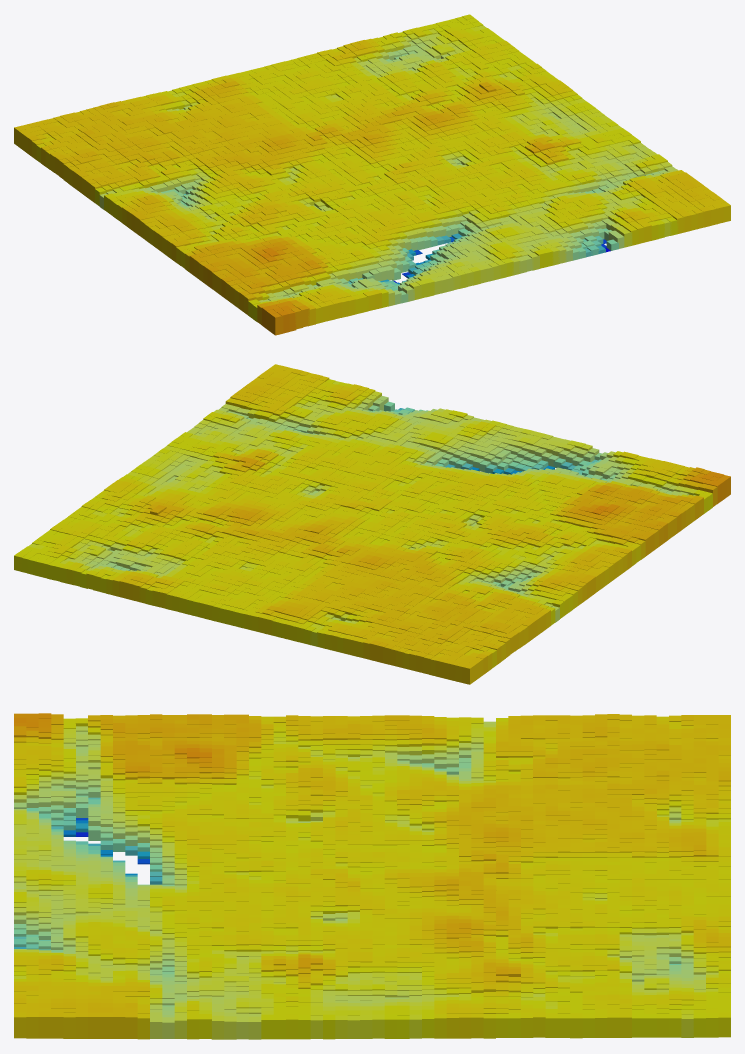
The model's file is population.glb.
3 renders of one model, top to bottom at view 1: azimuth 30°, elevation 25°; view 2: azimuth 150°, elevation 25°; view 3: azimuth 270°, elevation 25°, orthographic. The views are drawn at different scales.
Visible parts, largest first — view 1: population; view 2: population; view 3: population.
Part boxes in pixels (x1,y1,x2,y2): population: [14, 14, 730, 335]; population: [14, 364, 730, 684]; population: [14, 713, 730, 1039].
Bounding box in the file's own units: 5788 × 278 × 5744.
